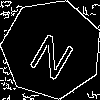N: (26, 24, 82, 82)
